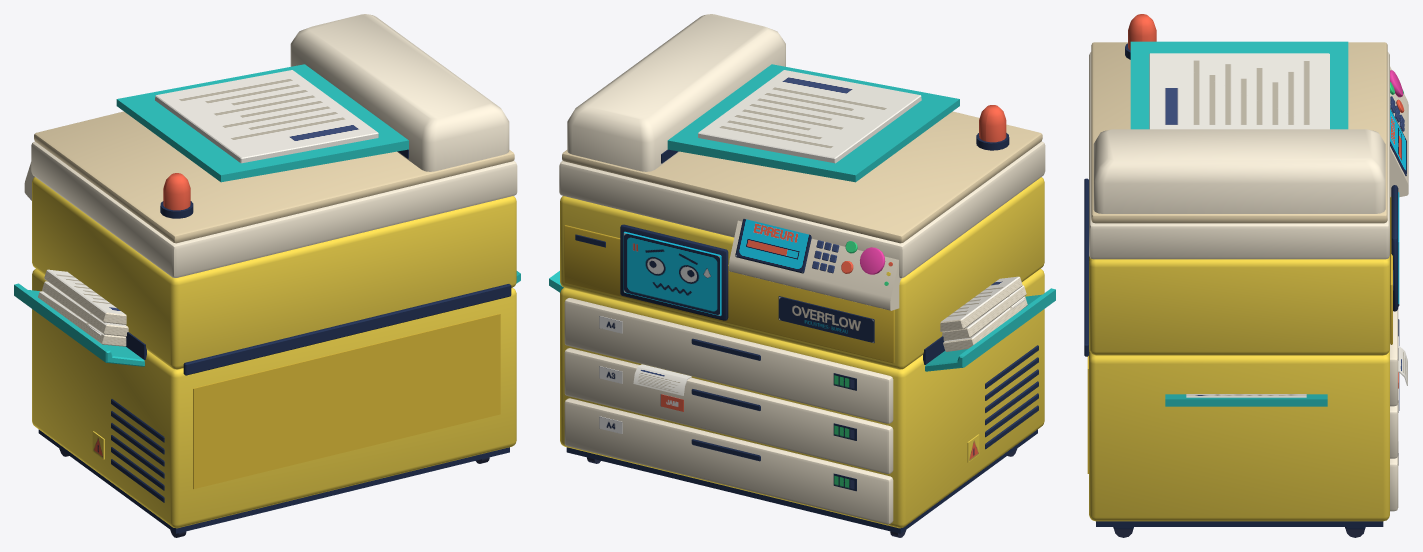
The model's file is machine_bureau_copier.glb.
The picture shows the model from 3 angles, left to right: view 1: azimuth 30°, elevation 25°; view 2: azimuth 150°, elevation 25°; view 3: azimuth 270°, elevation 25°; orthographic projection. The views are drawn at different scales.
Parts seen in each view (by area): view 1: machine_bureau_copier; view 2: machine_bureau_copier; view 3: machine_bureau_copier.
Part boxes in pixels (left/top/right/bottom): machine_bureau_copier: left=14, top=14, right=520, bottom=537; machine_bureau_copier: left=549, top=14, right=1055, bottom=537; machine_bureau_copier: left=1084, top=14, right=1408, bottom=537.
Bounding box in the file's own units: 22 × 18 × 14.
Materials: 1 (1 with a texture image).
